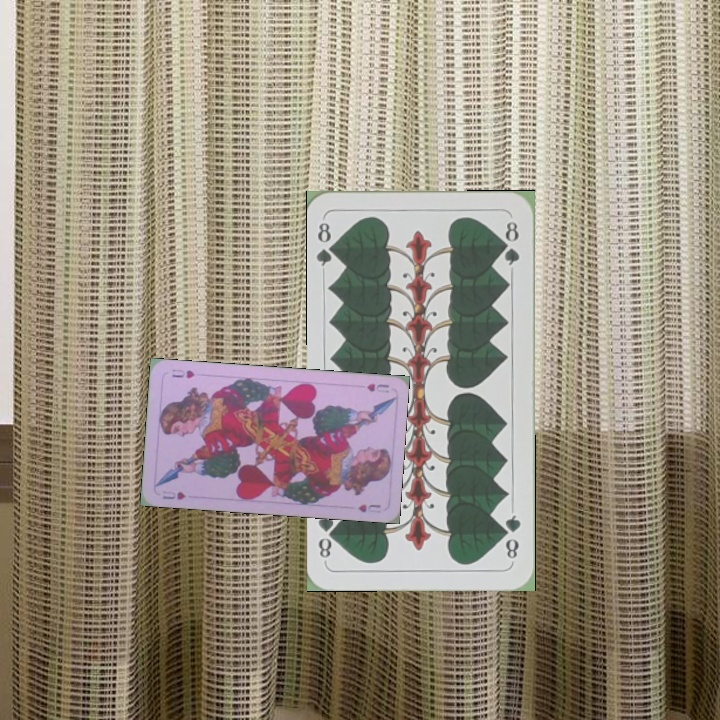G8: (313, 219, 340, 269), (500, 510, 524, 561)
HU: (362, 379, 391, 395), (158, 487, 188, 502)
